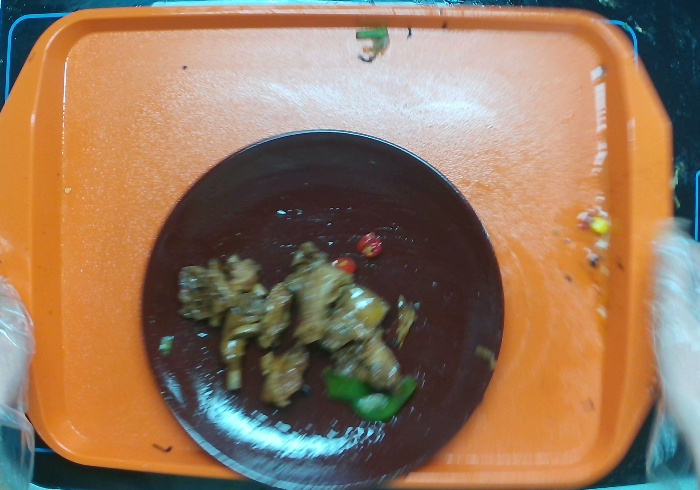HZYJPL-Ka_Fei_Yuan_Pan: (132, 123, 510, 490)
